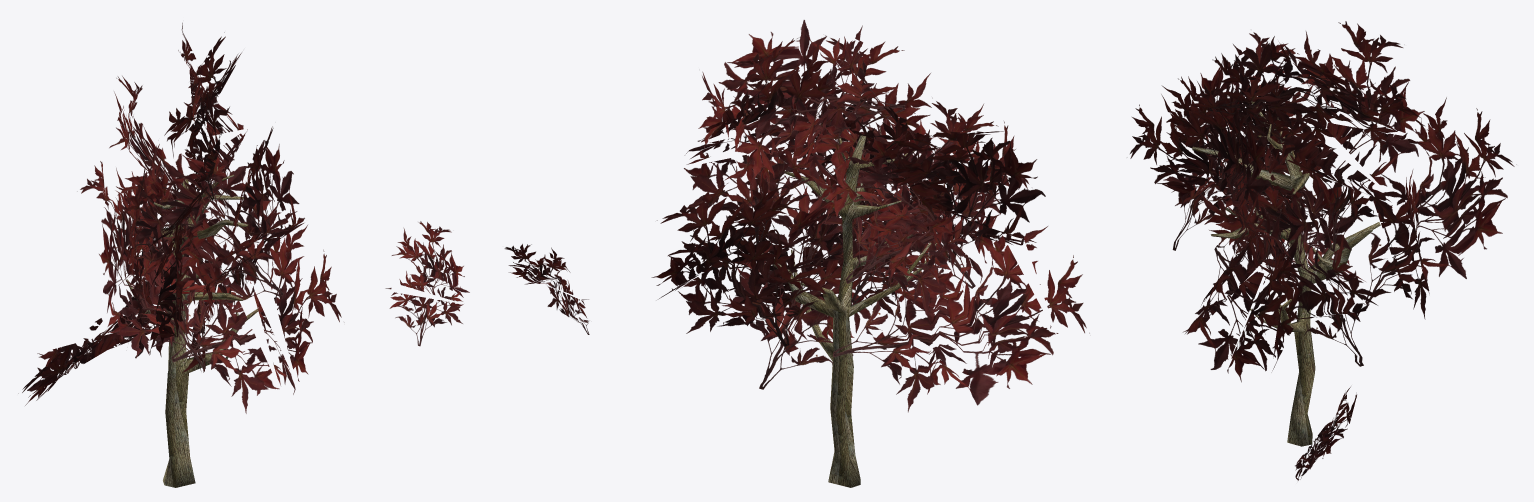
Rendered from low_polly_japanese_maple_tree.glb.
The picture shows the model from 3 angles, left to right: view 1: azimuth 30°, elevation 25°; view 2: azimuth 150°, elevation 25°; view 3: azimuth 270°, elevation 25°; orthographic projection. The views are drawn at different scales.
Parts seen in each view (by area): view 1: Cube_0, NewCanvas2_3; view 2: Cube_0, NewCanvas2_3; view 3: Cube_0, NewCanvas2_3.
Boxes of the visible parts, x1,y1,x2,y2 form: Cube_0: [18, 23, 344, 487]; NewCanvas2_3: [385, 221, 469, 346]; Cube_0: [651, 20, 1089, 487]; NewCanvas2_3: [504, 244, 589, 334]; Cube_0: [1130, 21, 1514, 446]; NewCanvas2_3: [1295, 387, 1356, 480].
Bounding box in the file's own units: 30.14 × 24.54 × 20.22.
Materials: 2 (2 with a texture image).
